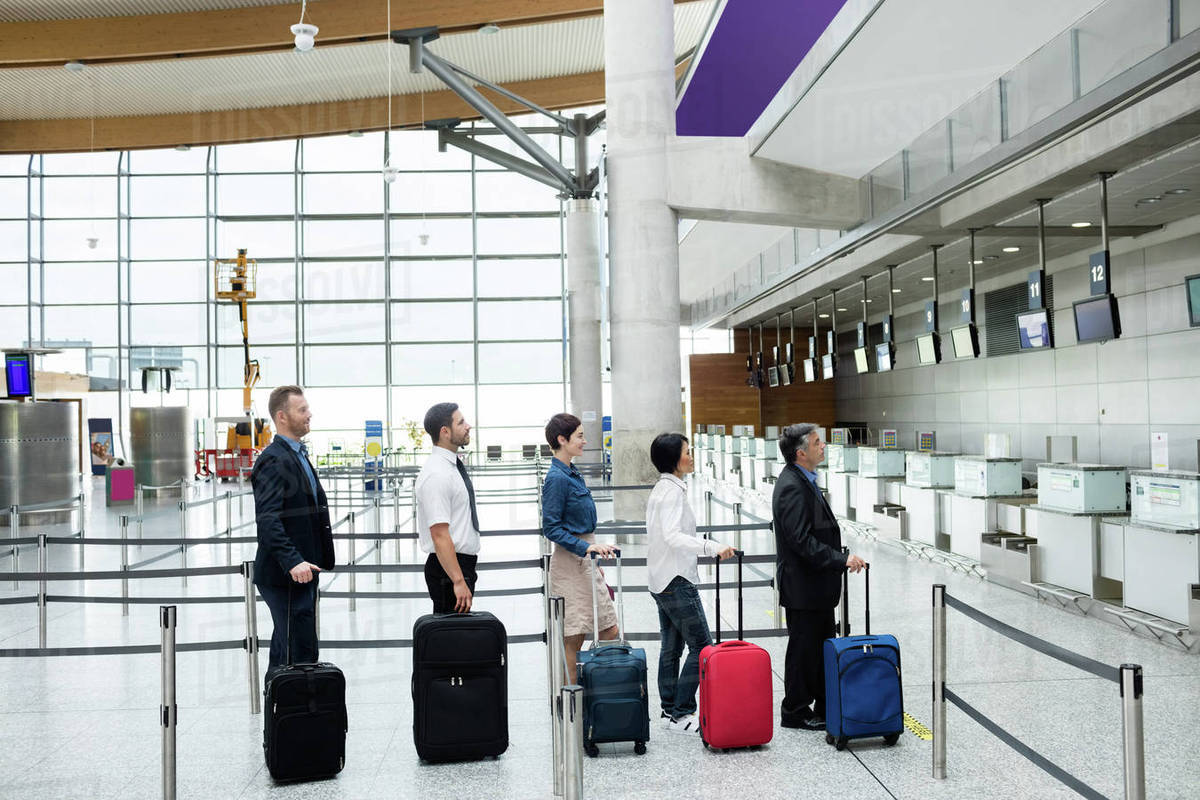luggage: (255, 571, 358, 789), (815, 559, 912, 753), (569, 548, 656, 760), (692, 547, 778, 756), (406, 608, 515, 764)
people: (537, 412, 642, 747), (766, 424, 865, 737), (244, 381, 334, 710), (408, 401, 501, 657)
